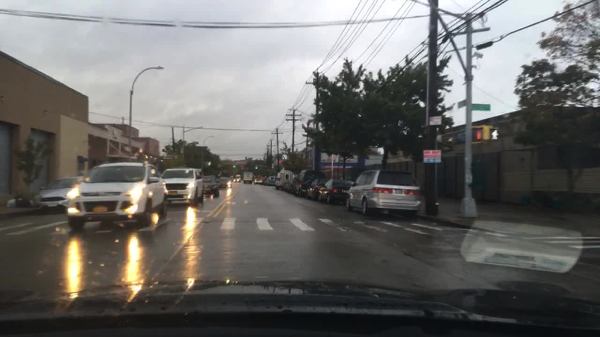car: (65, 160, 169, 235), (345, 170, 423, 220), (35, 176, 90, 215), (160, 167, 208, 209), (318, 178, 352, 205), (295, 171, 325, 196), (305, 179, 329, 199), (202, 176, 220, 198), (216, 176, 231, 188), (286, 179, 299, 192), (264, 177, 278, 185), (252, 178, 263, 184), (228, 175, 235, 180), (235, 179, 240, 183)
traffic light: (474, 127, 487, 140), (487, 128, 498, 142), (232, 162, 235, 169), (254, 164, 257, 170)
traffic sign: (423, 150, 440, 164), (469, 104, 491, 111), (456, 99, 467, 110), (428, 117, 441, 125)
truck: (275, 169, 294, 190), (242, 171, 253, 187), (235, 174, 242, 179)
